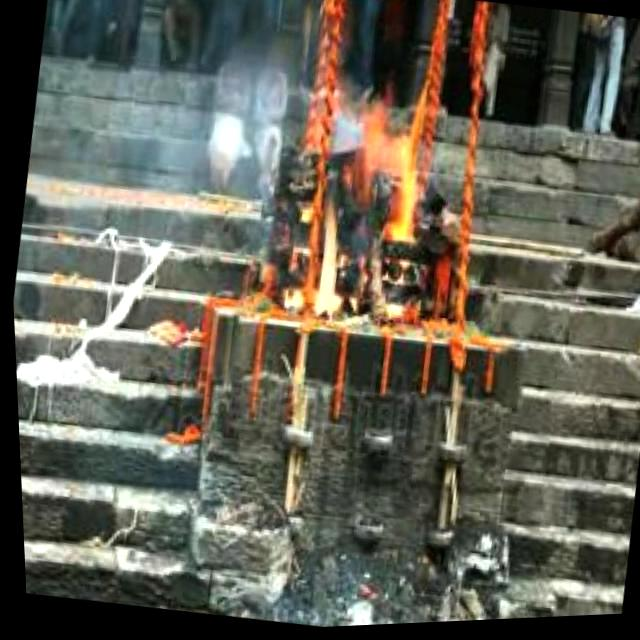fire: (286, 70, 442, 338)
